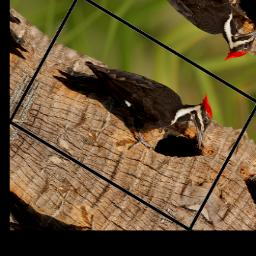Woodpecker: (41, 18, 226, 183)
